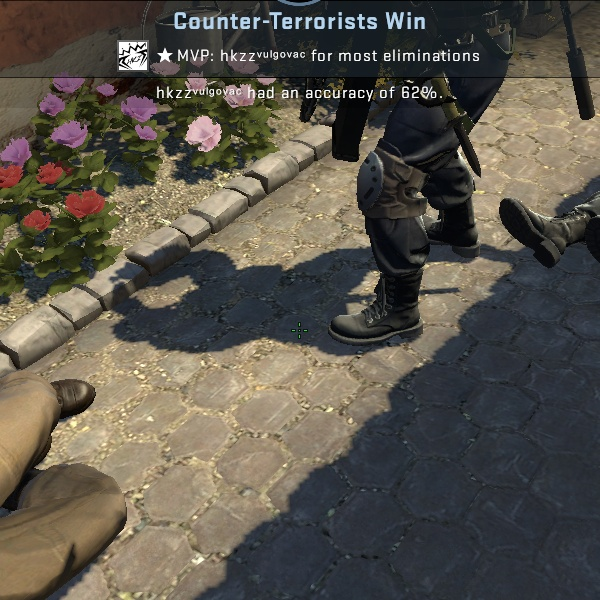ct_body: (273, 0, 574, 324)
